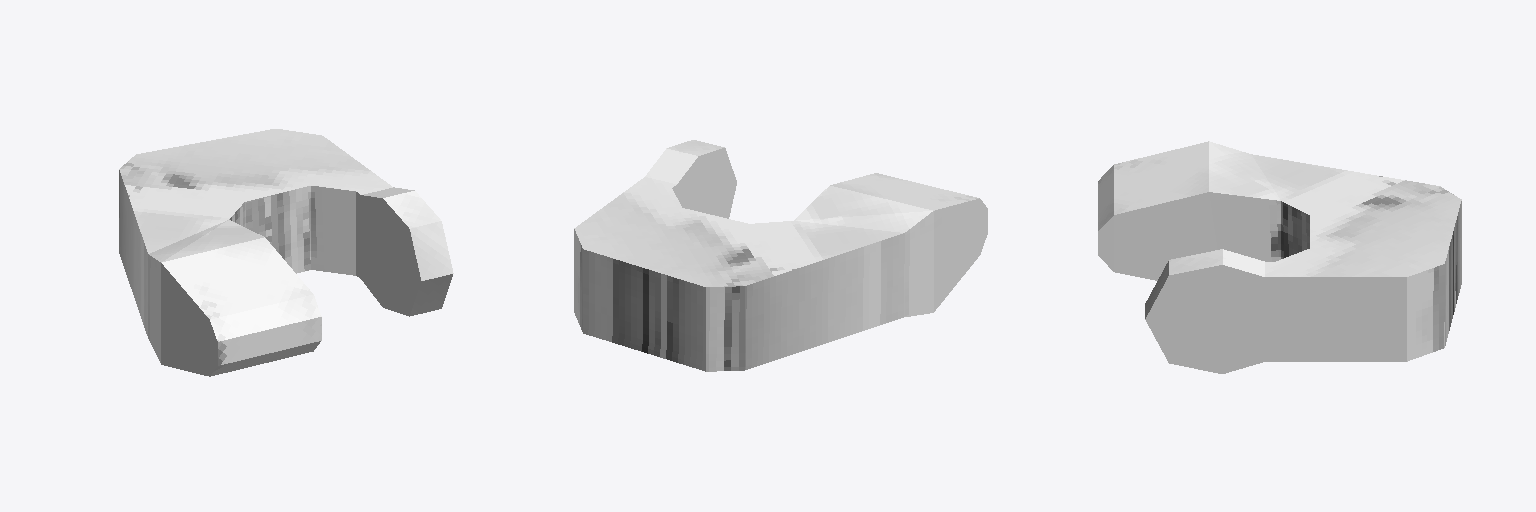
3 views of the same model, side by side, from view 1: azimuth 30°, elevation 25°; view 2: azimuth 150°, elevation 25°; view 3: azimuth 270°, elevation 25° (orthographic).
Visible parts, largest first — view 1: mtorso_mtorsoMesh; view 2: mtorso_mtorsoMesh; view 3: mtorso_mtorsoMesh.
Part boxes in pixels (x1,y1,x2,y2): mtorso_mtorsoMesh: (119, 129, 453, 376); mtorso_mtorsoMesh: (574, 140, 987, 371); mtorso_mtorsoMesh: (1098, 141, 1461, 373).
Bounding box in the file's own units: 0.0837 × 0.0337 × 0.1012.
1 materials, 1 textured.